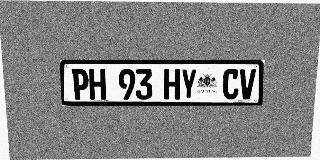3: (136, 69, 152, 100)
9: (119, 69, 135, 100)
C: (222, 69, 239, 99)
H: (89, 69, 106, 100), (164, 69, 180, 99)
P: (71, 69, 89, 100)
V: (239, 69, 256, 99)
Y: (180, 69, 197, 99)
